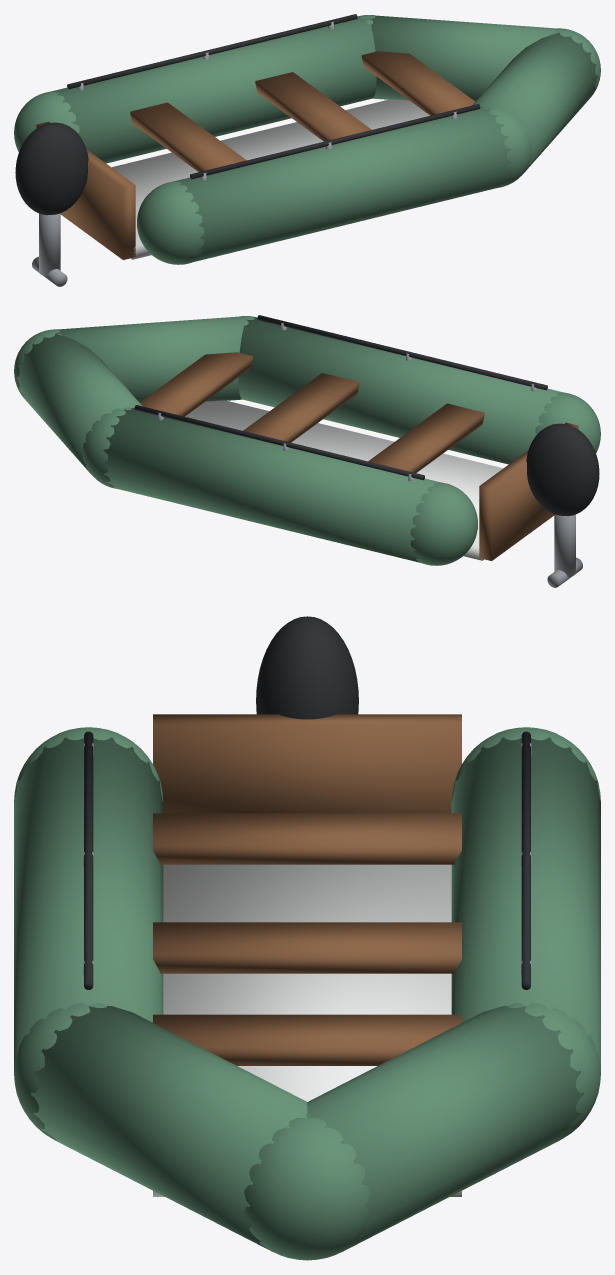
Rendered from zodiac_v2.glb.
3 renders of one model, top to bottom at view 1: azimuth 30°, elevation 25°; view 2: azimuth 150°, elevation 25°; view 3: azimuth 270°, elevation 25°, orthographic. The views are drawn at different scales.
Parts seen in each view (by area): view 1: SM_zodiac; view 2: SM_zodiac; view 3: SM_zodiac.
Part boxes in pixels (left/top/right/bottom): SM_zodiac: left=14, top=14, right=600, bottom=286; SM_zodiac: left=14, top=315, right=600, bottom=587; SM_zodiac: left=14, top=616, right=600, bottom=1260.
Bounding box in the file's own units: 4.61 × 1.17 × 2.28.
